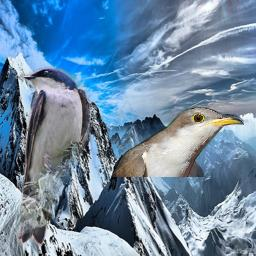Cuckoo: (113, 107, 244, 177)
Swallow: (14, 66, 91, 246)
